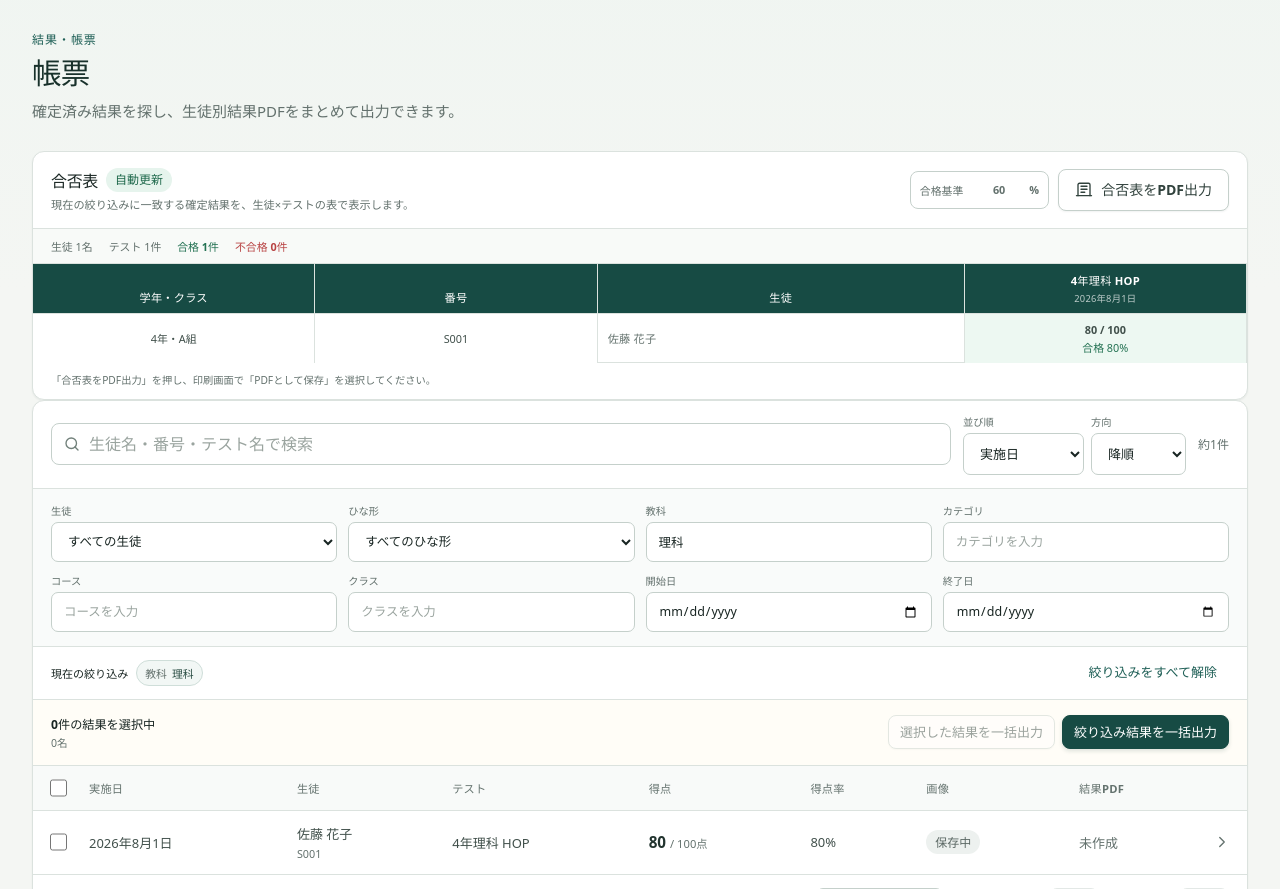
Test case: ReportsPage bulk result export › exports all filtered pages and polls progress to completion
What coordinates should you click on to do the following:
click the button "絞り込み結果を一括出力"
I would click on:
 (1146, 732)
Its box is [1062,715,1229,749].
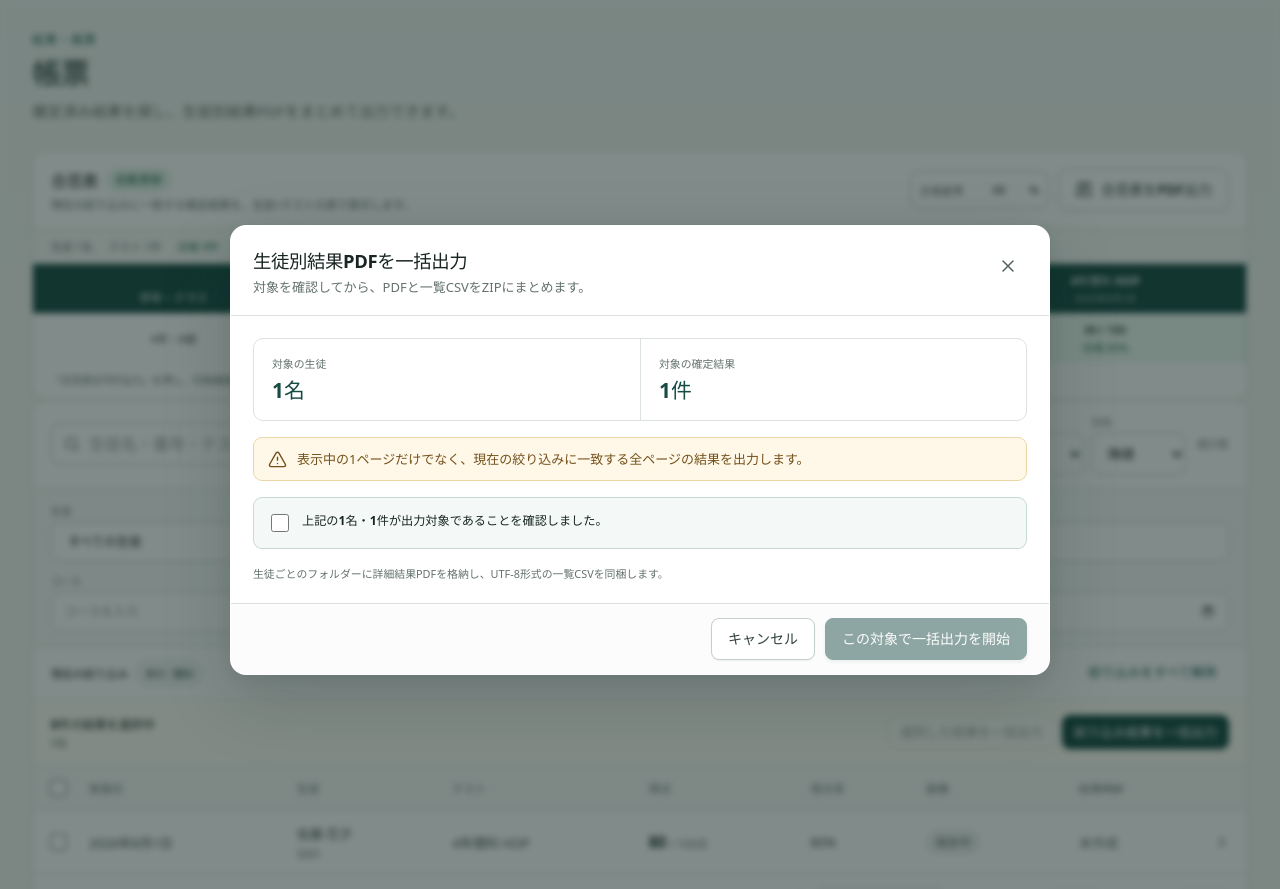
What coordinates should you click on to do the following:
click the checkbox labelled "上記の1名・1件が出力対象であることを確認しました。"
I would click on:
 (280, 523)
Its box is [271,514,289,532].
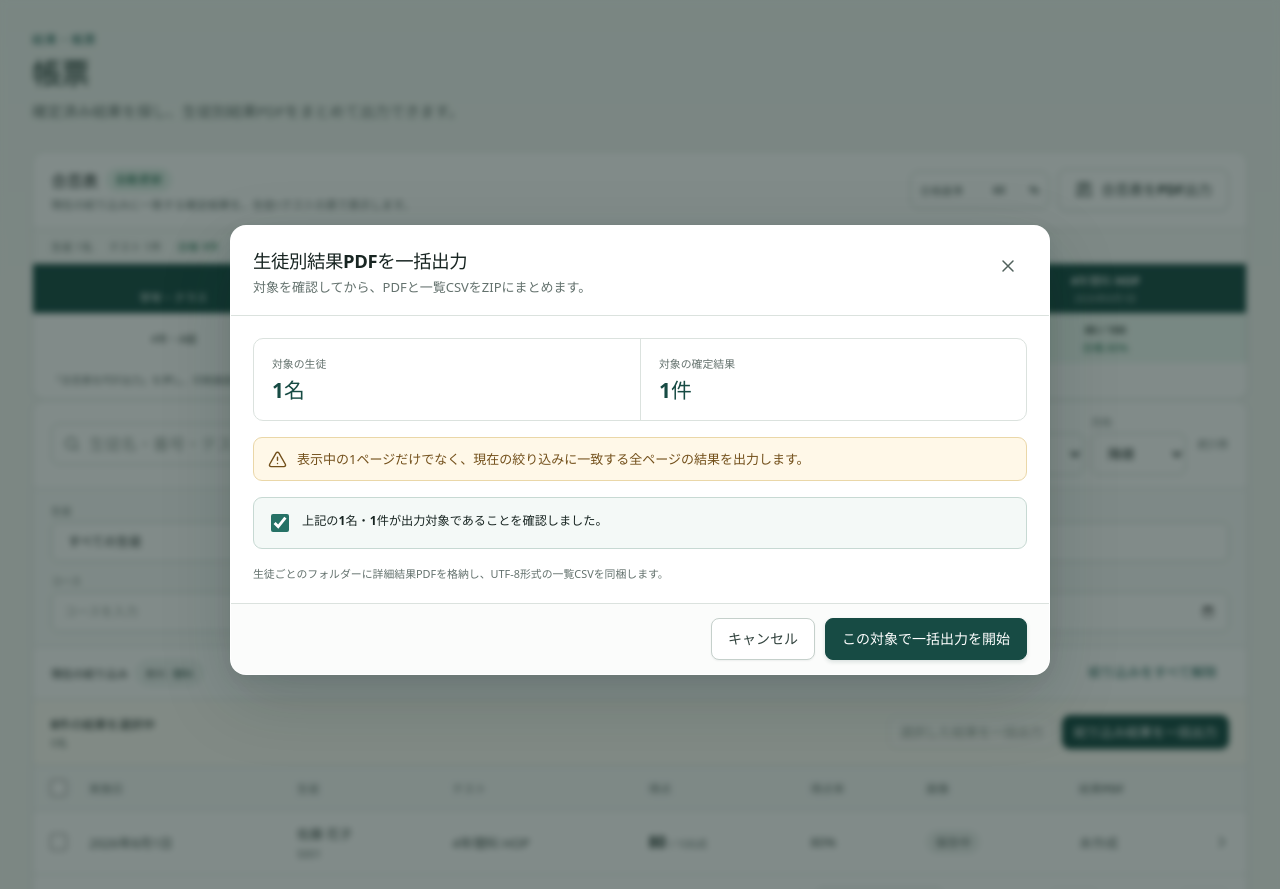
What coordinates should you click on to do the following:
click the button "この対象で一括出力を開始"
I would click on:
 (926, 639)
Its box is [825,618,1027,660].
Wait 1500 ms
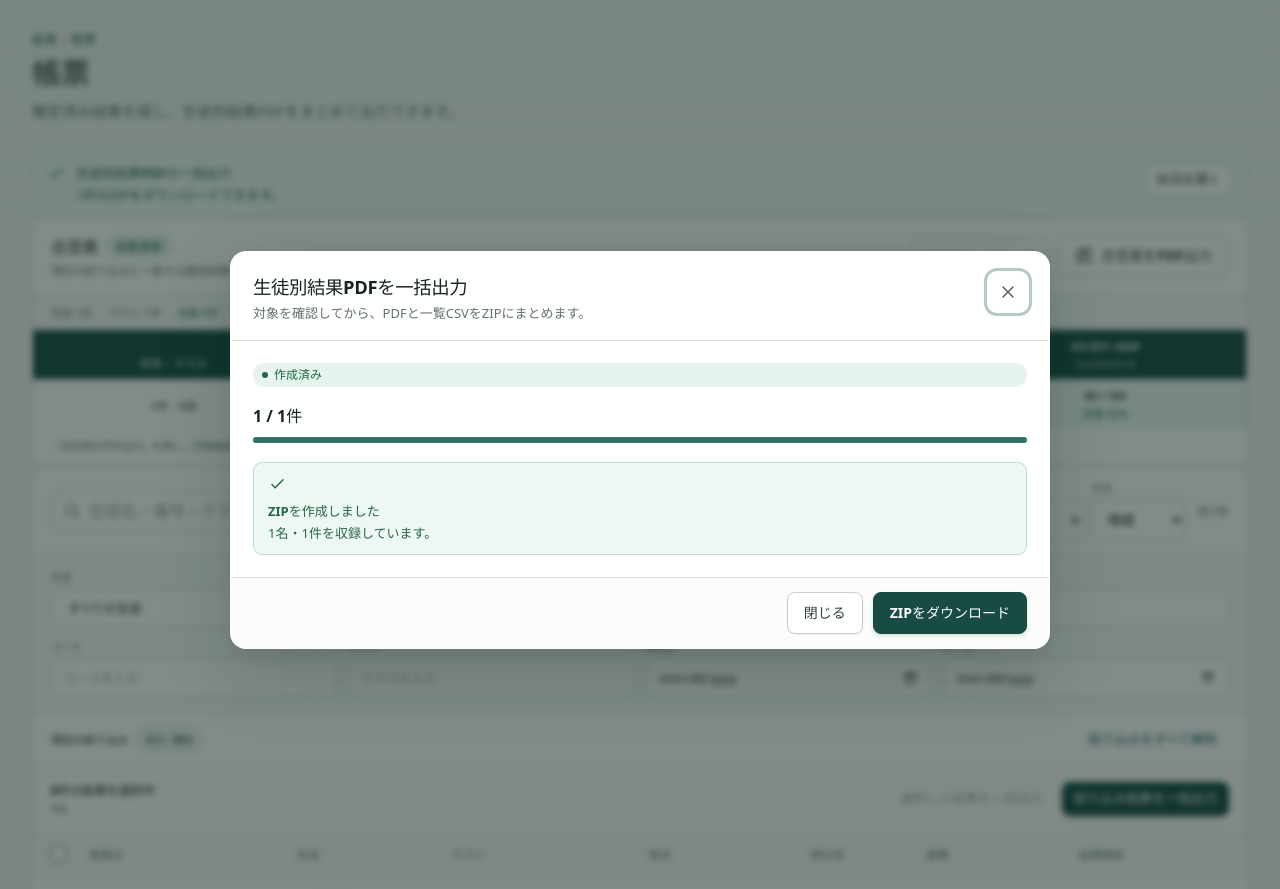
Expected: the link "ZIPをダウンロード" is shown, [873,592,1027,634]
